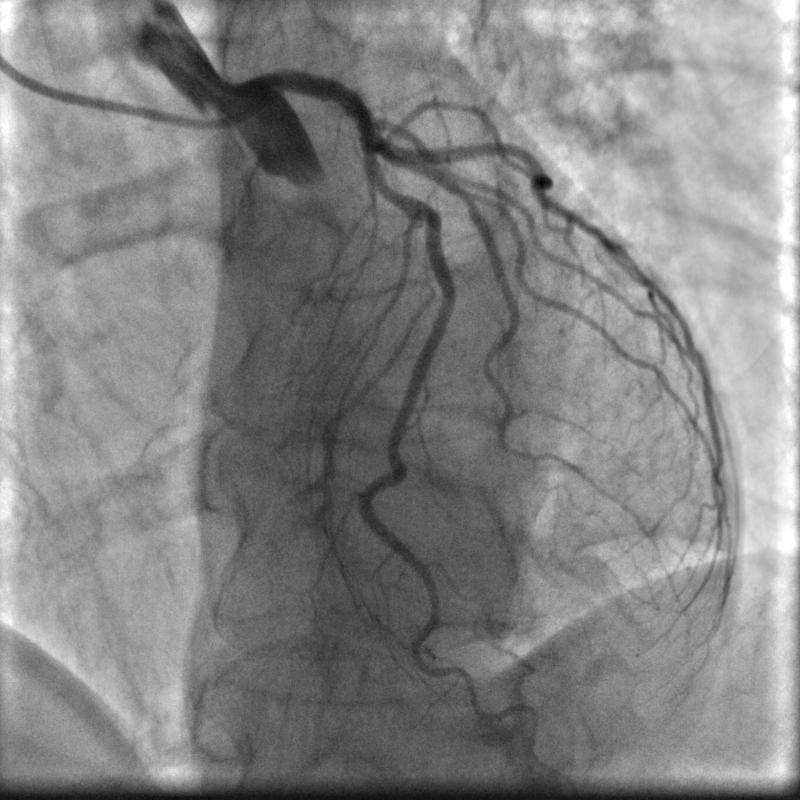Stenosis: (371, 171, 398, 202)
